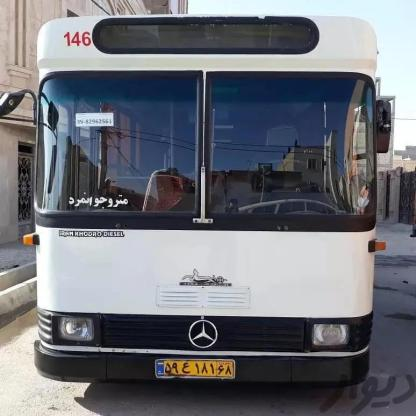Bus: (19, 0, 381, 387)
